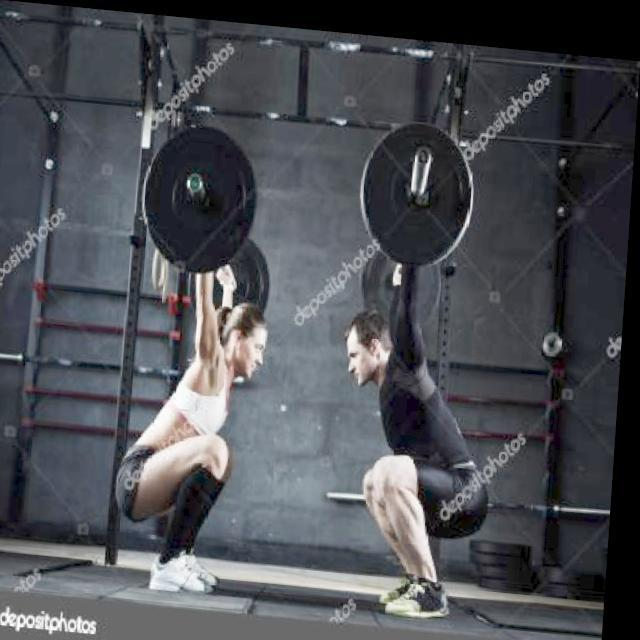barbell: (141, 111, 269, 283), (357, 108, 486, 272)
